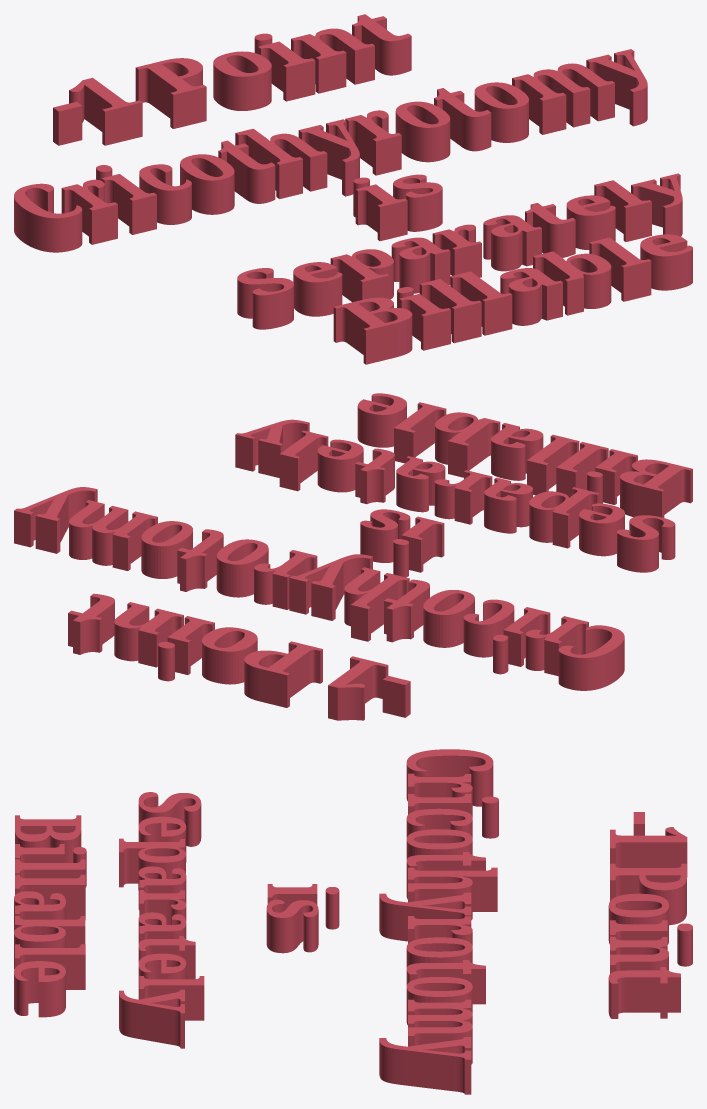
Rendered from necric.gltf.
The picture shows the model from 3 angles, top to bottom: view 1: azimuth 30°, elevation 25°; view 2: azimuth 150°, elevation 25°; view 3: azimuth 270°, elevation 25°; orthographic projection. The views are drawn at different scales.
Parts seen in each view (by area): view 1: Mesh_Mesh_head_geo001_lambert2SG001; view 2: Mesh_Mesh_head_geo001_lambert2SG001; view 3: Mesh_Mesh_head_geo001_lambert2SG001.
Part boxes in pixels (x1=…): Mesh_Mesh_head_geo001_lambert2SG001: x1=14, y1=14, x2=692, y2=364; Mesh_Mesh_head_geo001_lambert2SG001: x1=14, y1=393, x2=692, y2=720; Mesh_Mesh_head_geo001_lambert2SG001: x1=14, y1=749, x2=692, y2=1094.
Size of the model in its own units: 189 by 10 by 175.
